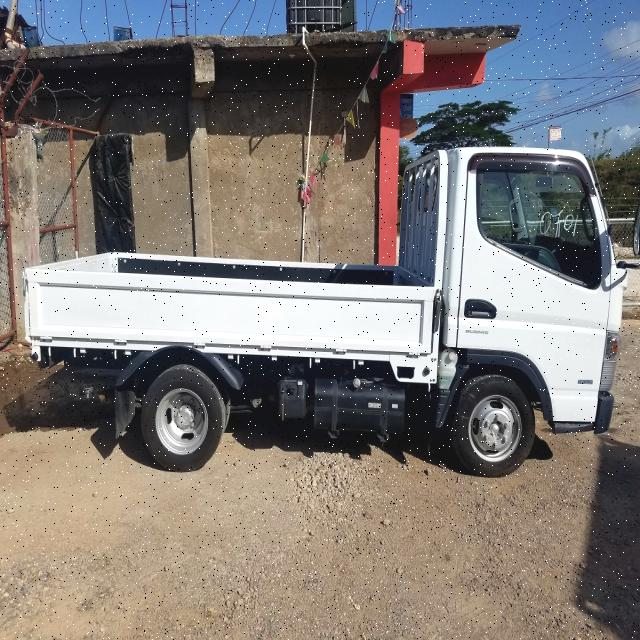truck: (23, 144, 624, 471)
